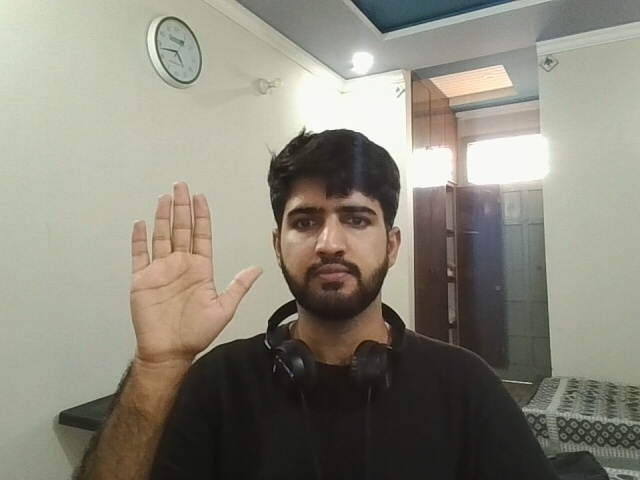Hello: (109, 167, 267, 367)
